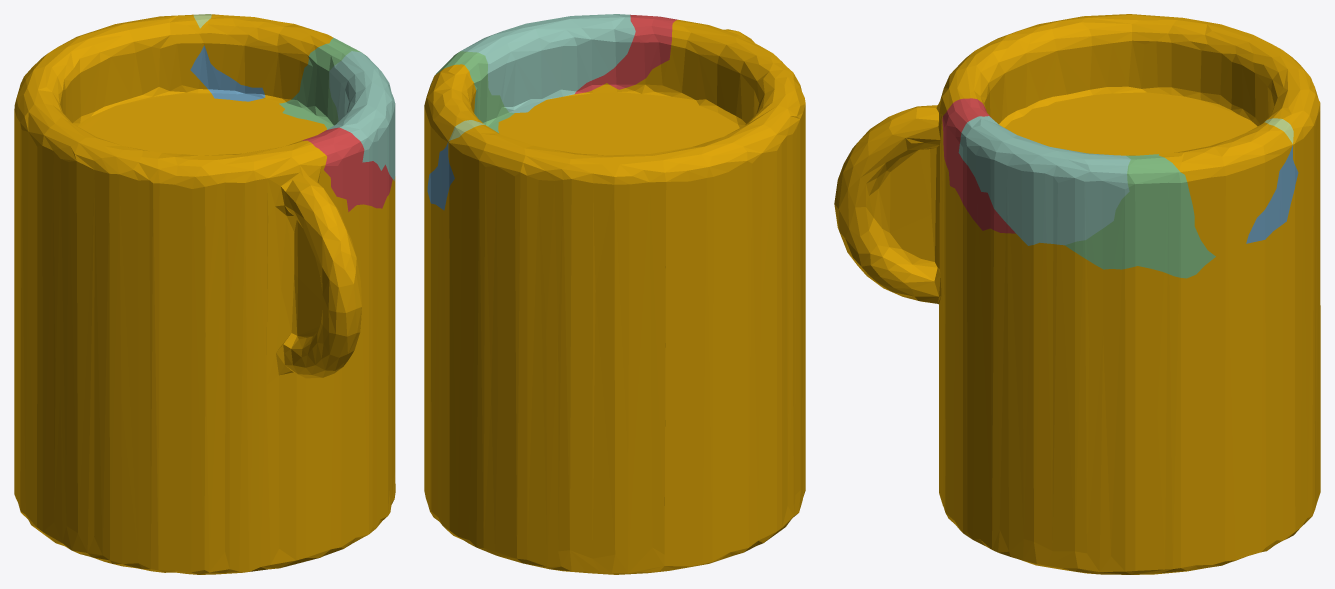
File: fractured_1_6pcs.glb
3 renders of one model, left to right at view 1: azimuth 30°, elevation 25°; view 2: azimuth 150°, elevation 25°; view 3: azimuth 270°, elevation 25°, orthographic.
Parts seen in each view (by area): view 1: piece_0.obj, piece_4.obj, piece_1.obj, piece_3.obj, piece_2.obj; view 2: piece_0.obj, piece_4.obj, piece_1.obj, piece_3.obj, piece_2.obj; view 3: piece_0.obj, piece_4.obj, piece_3.obj, piece_1.obj, piece_2.obj.
Boxes of the visible parts, x1,y1,x2,y2 form: piece_0.obj: [14, 14, 395, 574]; piece_4.obj: [327, 51, 395, 180]; piece_1.obj: [301, 127, 392, 211]; piece_3.obj: [279, 37, 365, 129]; piece_2.obj: [190, 45, 265, 101]; piece_0.obj: [424, 19, 805, 574]; piece_4.obj: [460, 14, 635, 112]; piece_1.obj: [575, 14, 677, 94]; piece_3.obj: [430, 51, 514, 132]; piece_2.obj: [427, 142, 454, 210]; piece_0.obj: [834, 14, 1320, 574]; piece_4.obj: [958, 116, 1130, 245]; piece_3.obj: [1065, 154, 1215, 278]; piece_1.obj: [942, 98, 1015, 233]; piece_2.obj: [1246, 145, 1298, 243].
Size of the model in its own units: 0.7845 by 0.9326 by 1.
